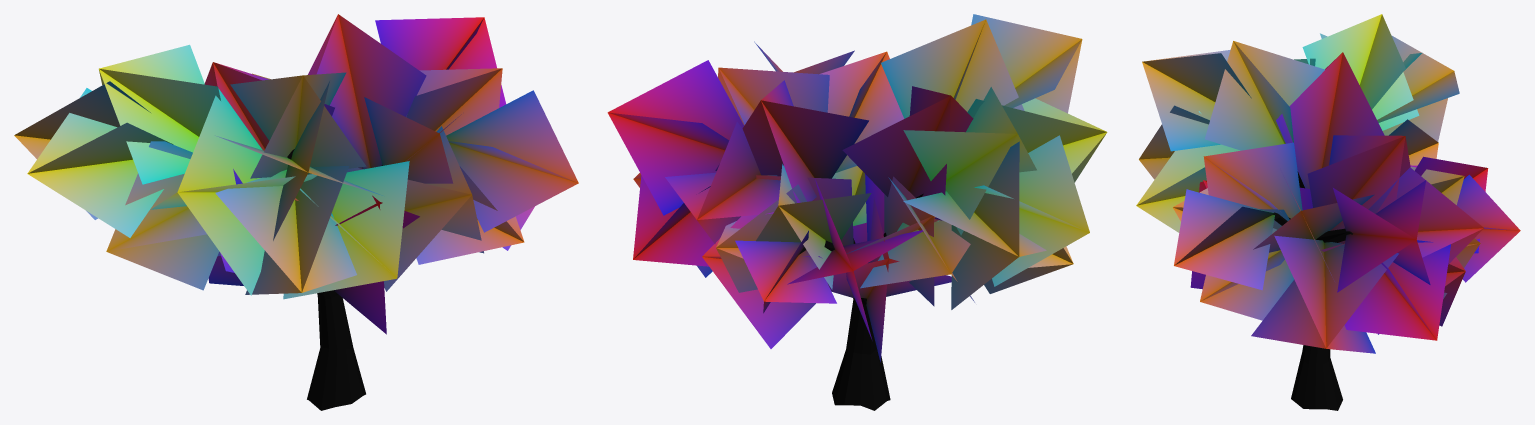
File: massive_swamptree_01_a_small.dae
The picture shows the model from 3 angles, left to right: view 1: azimuth 30°, elevation 25°; view 2: azimuth 150°, elevation 25°; view 3: azimuth 270°, elevation 25°; orthographic projection. The views are drawn at different scales.
Visible parts, largest first — view 1: swamptree128; view 2: swamptree128; view 3: swamptree128.
Boxes of the visible parts, x1,y1,x2,y2 form: swamptree128: [14, 14, 578, 410]; swamptree128: [607, 14, 1107, 410]; swamptree128: [1136, 14, 1520, 410].
Size of what is drawn, in the model's own units: 21.92 by 16.69 by 15.77.
